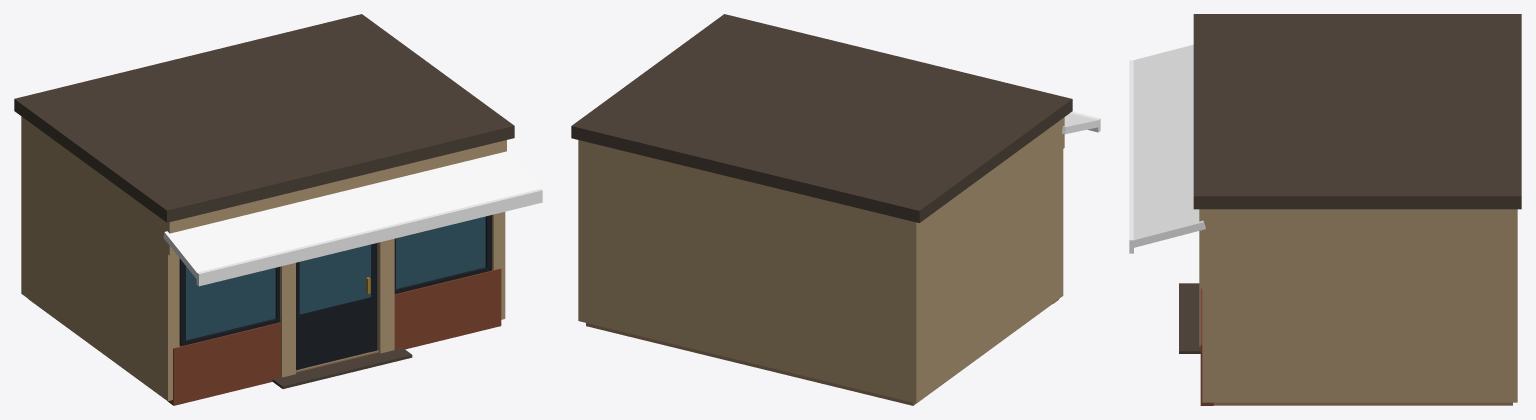
The model's file is estabelecimento_interior.glb.
The picture shows the model from 3 angles, left to right: view 1: azimuth 30°, elevation 25°; view 2: azimuth 150°, elevation 25°; view 3: azimuth 270°, elevation 25°; orthographic projection. The views are drawn at different scales.
Visible parts, largest first — view 1: InteriorShell, Awning, DoorPivot; view 2: InteriorShell, Awning; view 3: InteriorShell, Awning.
Boxes of the visible parts, bbox=[...] form: InteriorShell: bbox=[14, 14, 514, 405]; Awning: bbox=[163, 148, 542, 286]; DoorPivot: bbox=[296, 243, 377, 370]; InteriorShell: bbox=[571, 14, 1072, 405]; Awning: bbox=[1061, 111, 1100, 134]; InteriorShell: bbox=[1179, 14, 1521, 405]; Awning: bbox=[1129, 44, 1205, 253].
Bounding box in the file's own units: 5.36 × 2.95 × 4.88.
